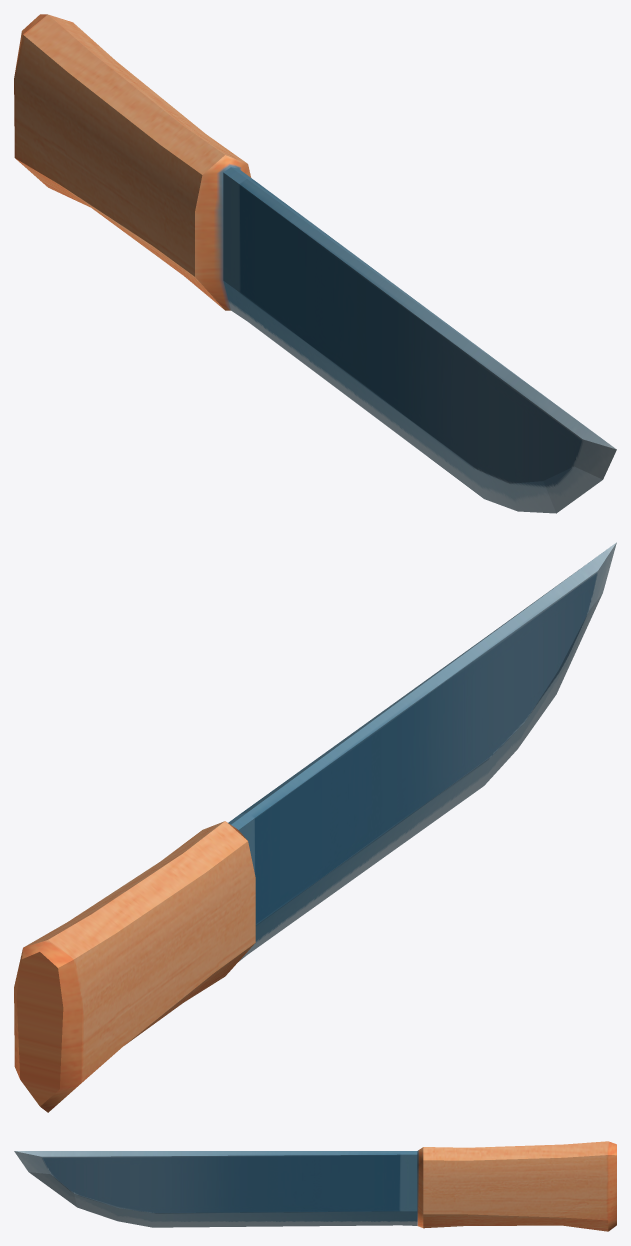
File: knife.fbx
The picture shows the model from 3 angles, top to bottom: view 1: azimuth 30°, elevation 25°; view 2: azimuth 150°, elevation 25°; view 3: azimuth 270°, elevation 25°; orthographic projection. The views are drawn at different scales.
Visible parts, largest first — view 1: pCube1; view 2: pCube1; view 3: pCube1.
Part boxes in pixels (x1,y1,x2,y2): pCube1: (14, 14, 616, 513); pCube1: (14, 542, 616, 1112); pCube1: (14, 1141, 616, 1231).
Size of the model in its own units: 0.0896 by 0.2171 by 1.31.
Materials: 2 (2 with a texture image).
